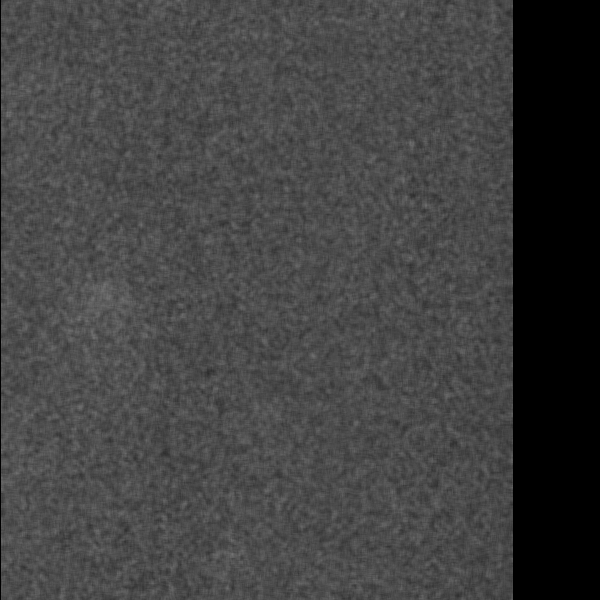spark: (62, 267, 156, 321)
